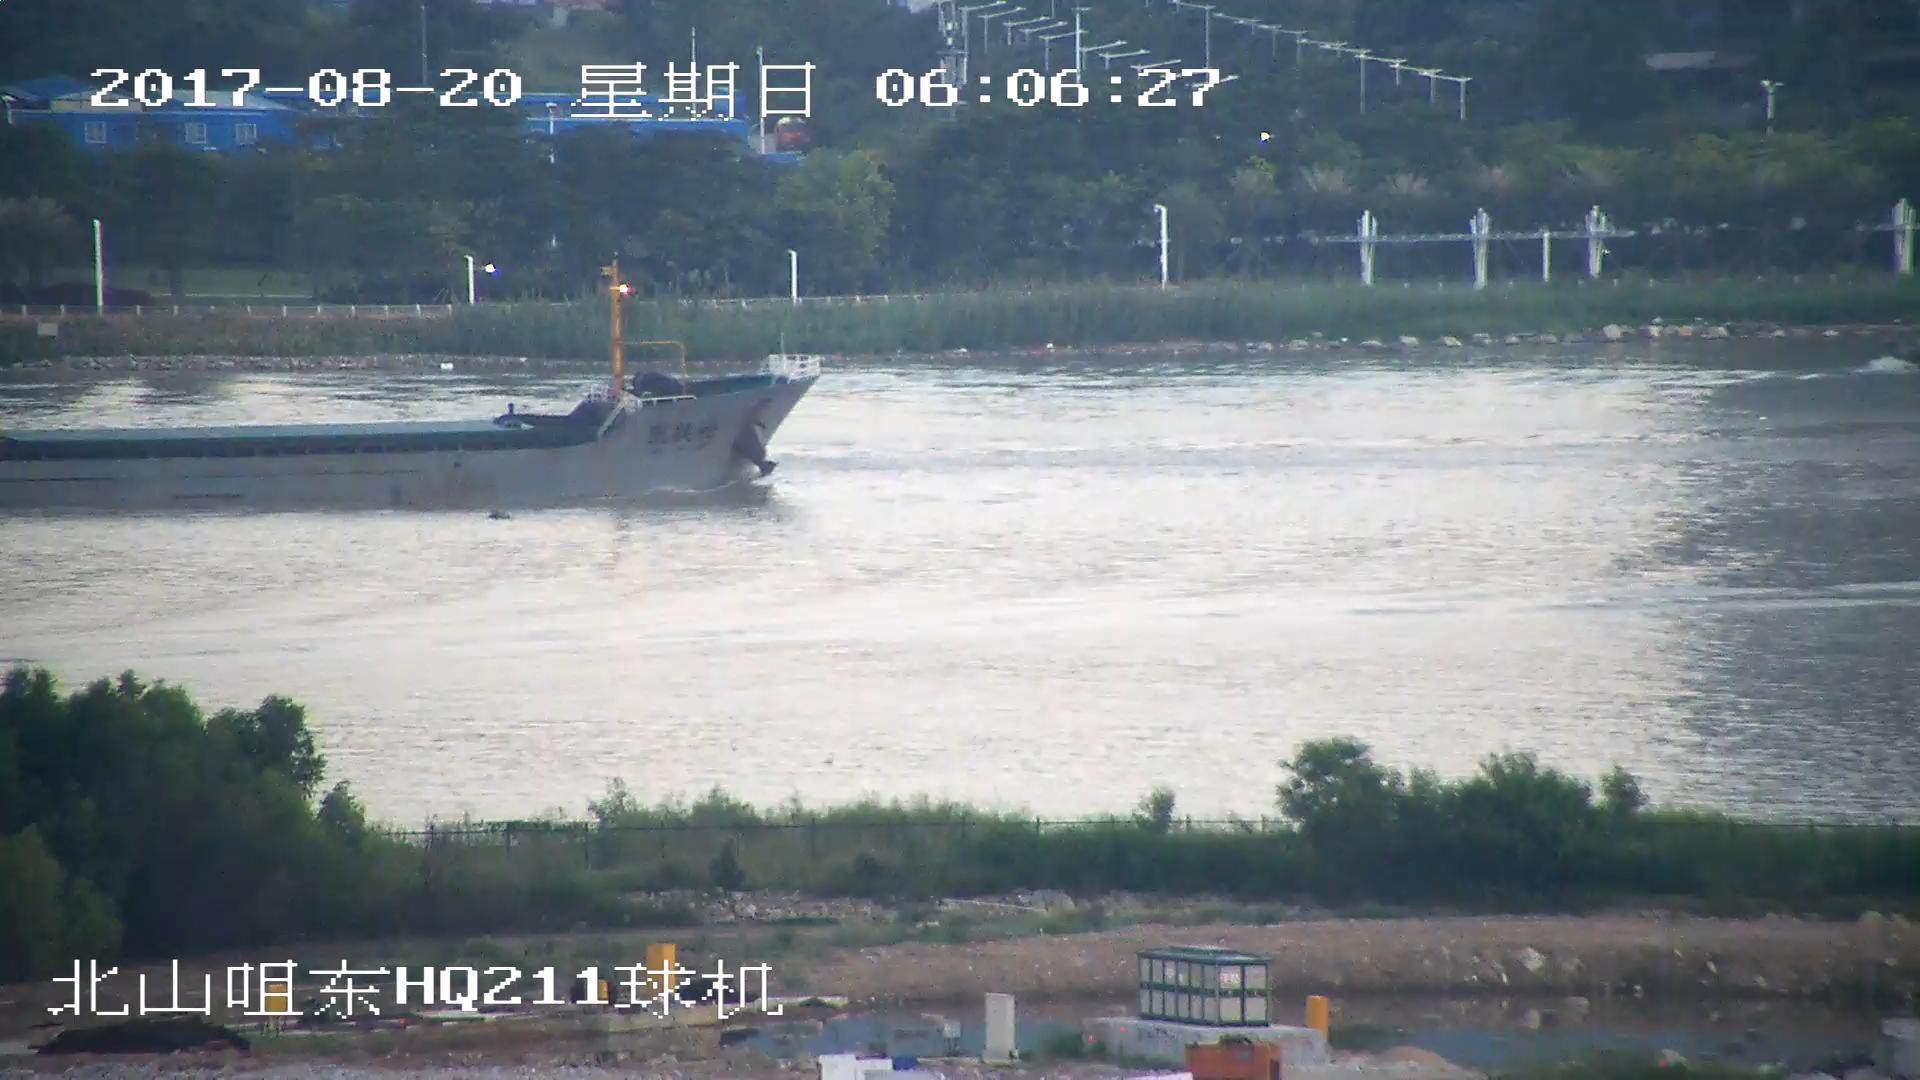Ship: (3, 345, 814, 516)
